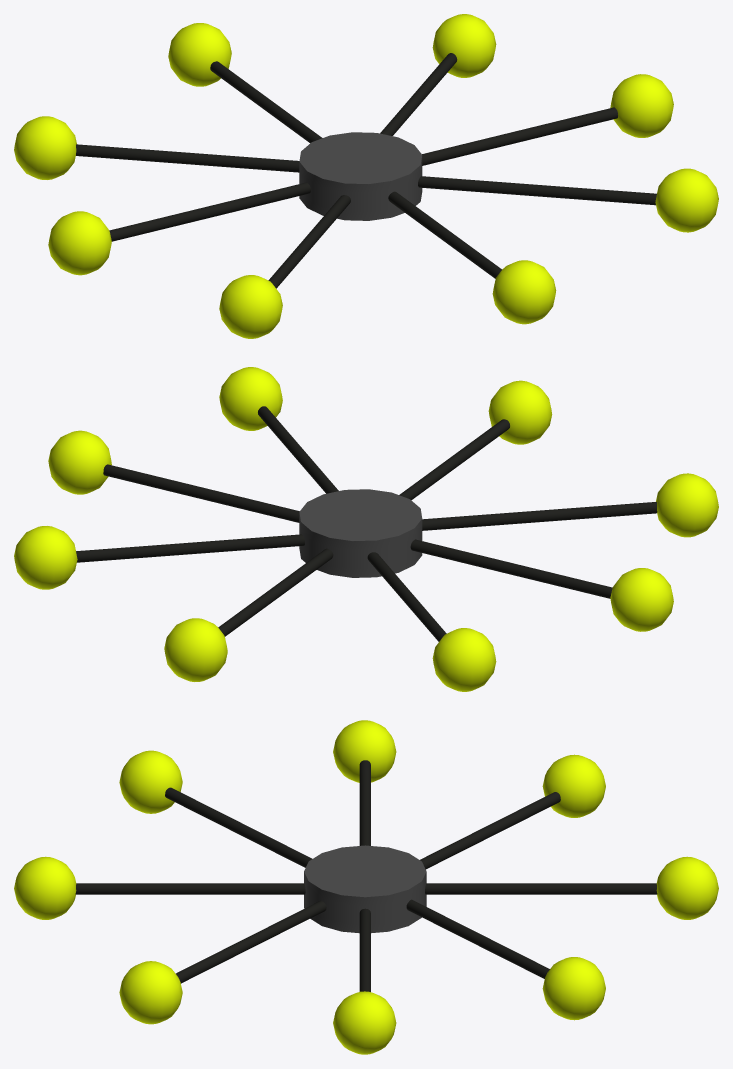
The model's file is small chandelier.fbx.
3 renders of one model, top to bottom at view 1: azimuth 30°, elevation 25°; view 2: azimuth 150°, elevation 25°; view 3: azimuth 270°, elevation 25°, orthographic.
Parts seen in each view (by area): view 1: Cylinder_2, Sphere_3, Sphere_4, Sphere_2, Cylinder_3_3, Cylinder_3_4, Cylinder_3_2, Sphere, Sphere_1, Cylinder_4, Cylinder_3; view 2: Cylinder_2, Sphere_2, Sphere_4, Sphere_3, Cylinder_3_3, Cylinder_3_4, Cylinder_3_2, Sphere_1, Sphere, Cylinder_3, Cylinder_4; view 3: Cylinder_2, Sphere_3, Sphere_2, Sphere_4, Cylinder_3_4, Cylinder_3_2, Sphere_1, Sphere, Cylinder_3, Cylinder_4, Cylinder_3_3.
Boxes of the visible parts, x1,y1,x2,y2 form: Cylinder_2: (299,132,422,220); Sphere_3: (219,168,718,338); Sphere_4: (48,74,673,275); Sphere_2: (14,14,496,179); Cylinder_3_3: (109,107,617,241); Cylinder_3_4: (268,176,656,288); Cylinder_3_2: (76,53,457,172); Sphere: (492,260,556,324); Sphere_1: (168,23,231,86); Cylinder_4: (388,191,501,278); Cylinder_3: (210,61,322,143); Cylinder_2: (299,489,422,577); Sphere_2: (14,526,496,691); Sphere_4: (48,430,673,631); Sphere_3: (219,367,718,537); Cylinder_3_3: (103,464,612,598); Cylinder_3_4: (258,406,657,530); Cylinder_3_2: (76,534,446,641); Sphere_1: (164,618,227,681); Sphere: (488,380,552,444); Cylinder_3: (218,548,333,636); Cylinder_4: (399,419,509,500); Cylinder_2: (304,845,426,933); Sphere_3: (119,750,182,1024); Sphere_2: (542,754,605,1020); Sphere_4: (333,720,396,1054); Cylinder_3_4: (165,787,326,983); Cylinder_3_2: (406,792,560,978); Sphere_1: (656,856,718,919); Sphere: (14,856,76,919); Cylinder_3: (425,883,657,894); Cylinder_4: (75,883,305,894); Cylinder_3_3: (359,760,370,991).
Bounding box in the file's own units: 575 × 51.73 × 575.
